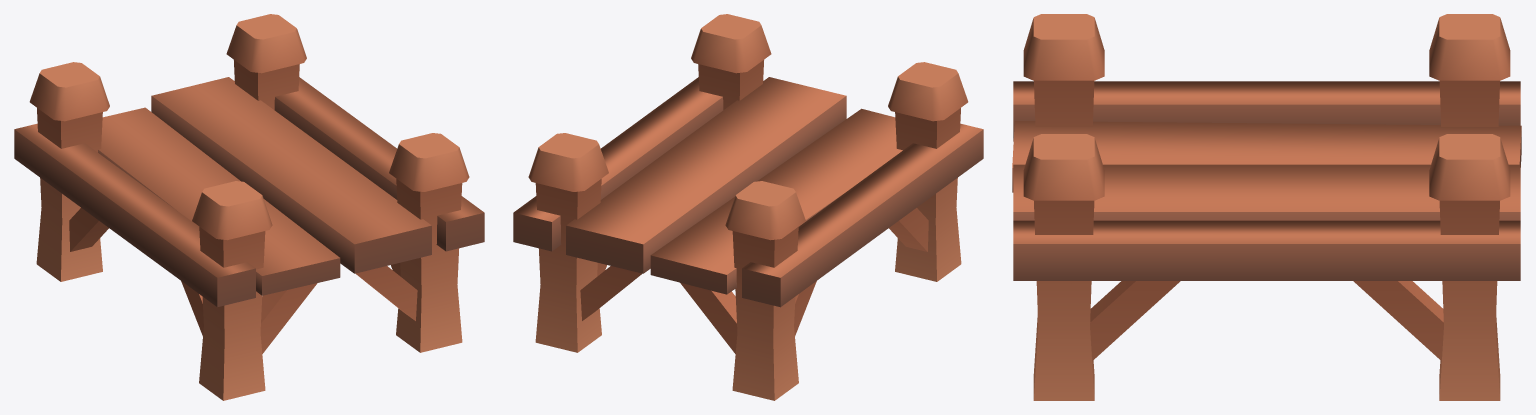
File: structure-platform-dock-small.glb
The picture shows the model from 3 angles, left to right: view 1: azimuth 30°, elevation 25°; view 2: azimuth 150°, elevation 25°; view 3: azimuth 270°, elevation 25°; orthographic projection. The views are drawn at different scales.
Parts seen in each view (by area): view 1: structure-platform-dock-small; view 2: structure-platform-dock-small; view 3: structure-platform-dock-small.
Part boxes in pixels (box(x1,y1,x2,y2)): structure-platform-dock-small: box(14, 14, 484, 400); structure-platform-dock-small: box(513, 14, 983, 400); structure-platform-dock-small: box(1012, 14, 1521, 400).
Size of the model in its own units: 1.9 by 1.31 by 2.51.
Materials: 1 (1 with a texture image).
